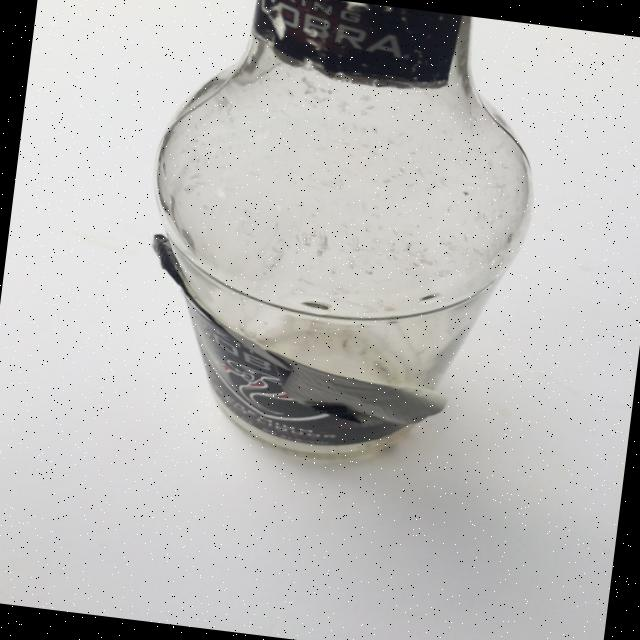glass: (120, 0, 555, 482)
